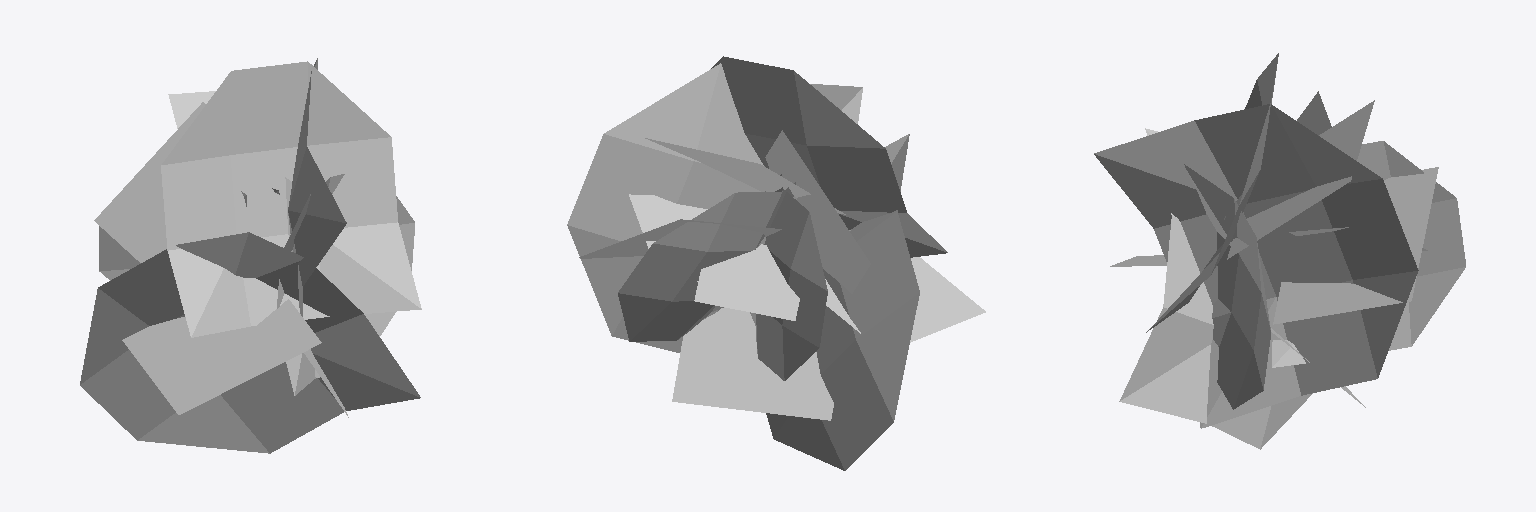
The model's file is TreeHOJAS-90.obj.
The picture shows the model from 3 angles: view 1: azimuth 30°, elevation 25°; view 2: azimuth 150°, elevation 25°; view 3: azimuth 270°, elevation 25°; orthographic projection.
Parts seen in each view (by area): view 1: Tree; view 2: Tree; view 3: Tree.
Part boxes in pixels (left/top/right/bottom): Tree: left=80, top=58, right=421, bottom=453; Tree: left=567, top=56, right=985, bottom=470; Tree: left=1094, top=53, right=1465, bottom=449.
Bounding box in the file's own units: 4.49 × 5.3 × 4.67.